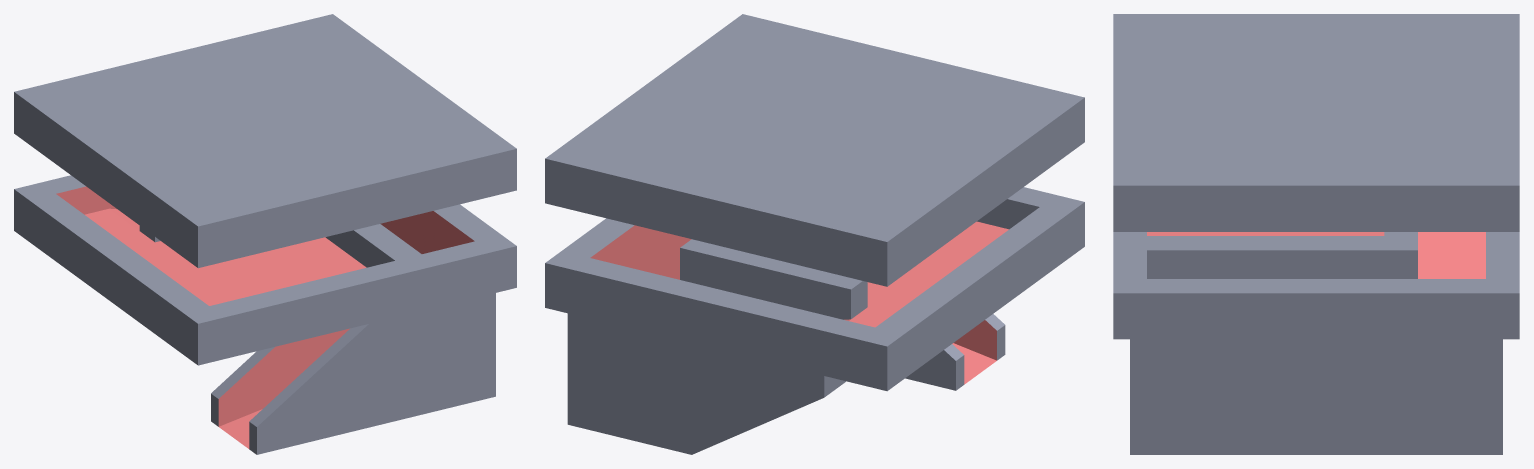
The model's file is building_townhouse-base_v02.gltf.
3 renders of one model, left to right at view 1: azimuth 30°, elevation 25°; view 2: azimuth 150°, elevation 25°; view 3: azimuth 270°, elevation 25°, orthographic. The views are drawn at different scales.
Parts seen in each view (by area): view 1: massing 3, massing 5, massing 1, massing, massing 4; view 2: massing 3, massing 5, massing 1, massing, massing 4; view 3: massing 3, massing 1, massing 5, massing 4, massing.
Boxes of the visible parts, left/top/right/bottom form: massing 3: left=14, top=14, right=516, bottom=268; massing 5: left=14, top=175, right=516, bottom=365; massing 1: left=211, top=293, right=495, bottom=454; massing: left=56, top=186, right=474, bottom=448; massing 4: left=139, top=226, right=394, bottom=267; massing 3: left=545, top=14, right=1084, bottom=286; massing 5: left=545, top=187, right=1084, bottom=391; massing 1: left=567, top=313, right=1005, bottom=454; massing: left=590, top=221, right=1008, bottom=384; massing 4: left=680, top=199, right=1039, bottom=319; massing 3: left=1113, top=14, right=1519, bottom=231; massing 1: left=1130, top=339, right=1502, bottom=454; massing 5: left=1113, top=232, right=1519, bottom=339; massing 4: left=1147, top=250, right=1417, bottom=278; massing: left=1147, top=232, right=1485, bottom=278.
Bounding box in the file's own units: 12 × 9 × 12.
